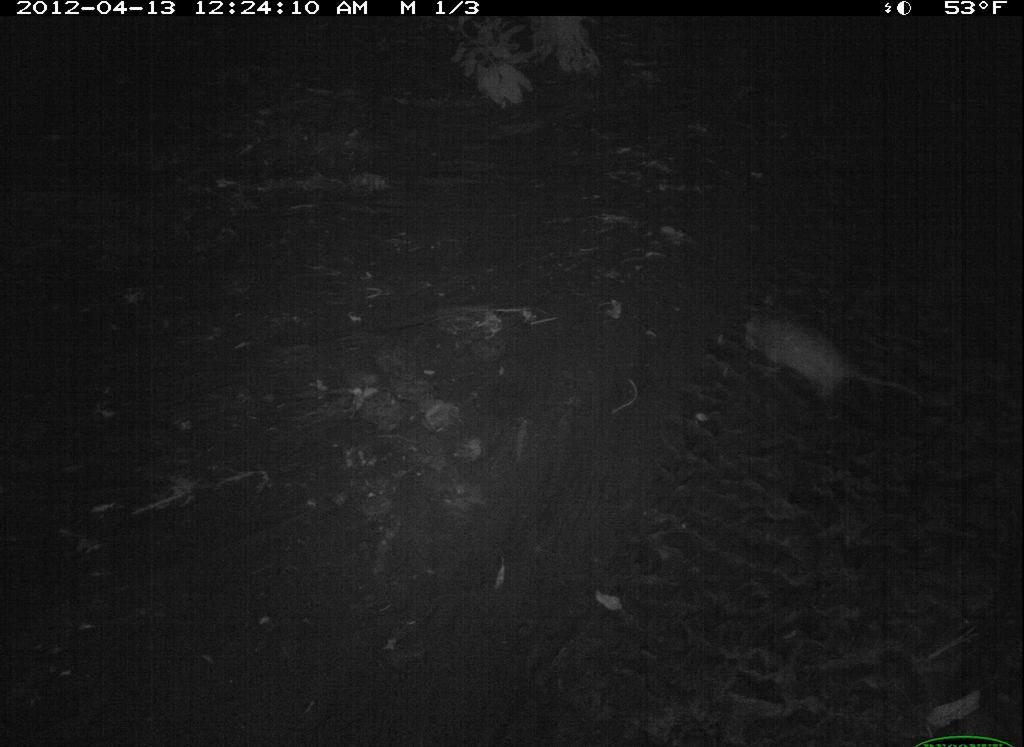opossum: (725, 278, 918, 425)
